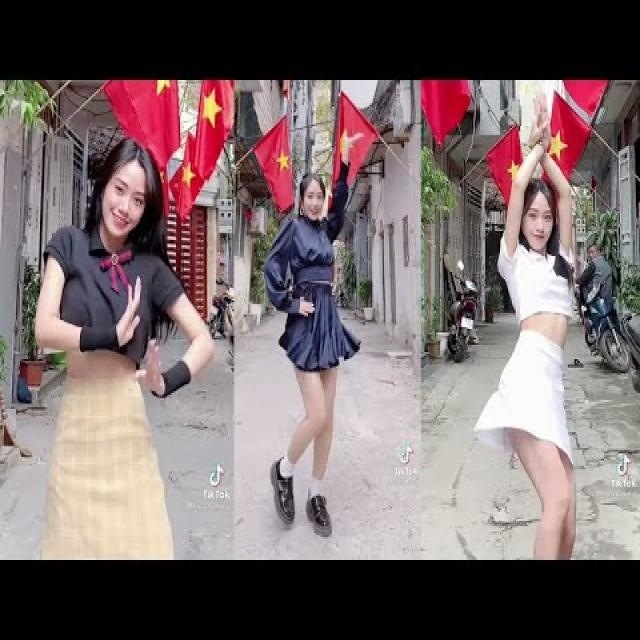clothes: (31, 226, 184, 560), (474, 233, 573, 470), (263, 216, 363, 374)
